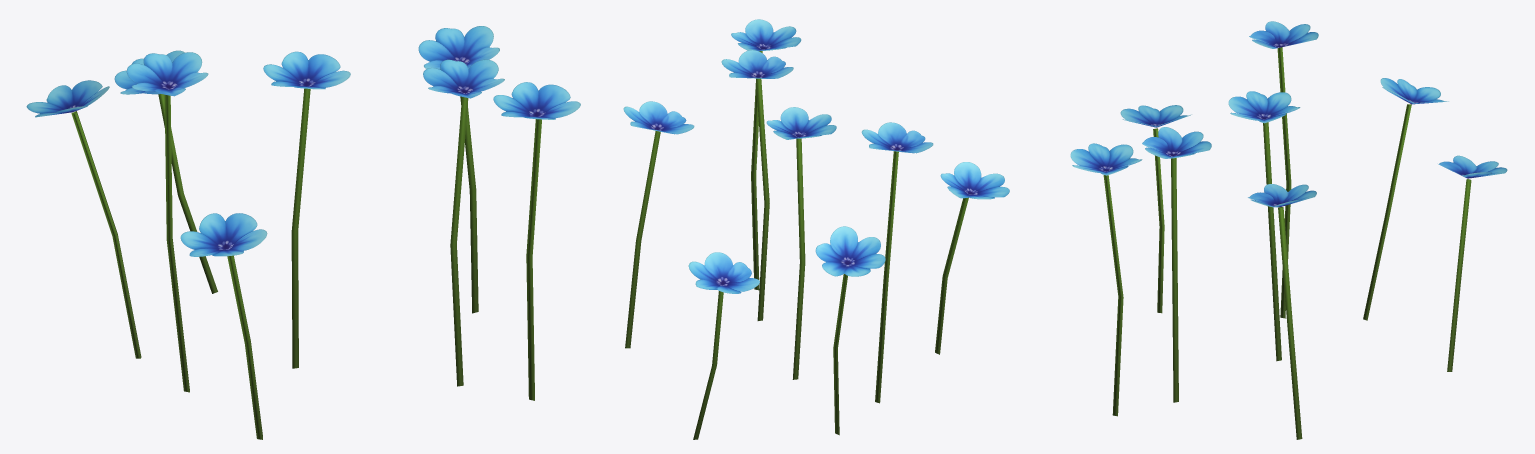
3 renders of one model, left to right at view 1: azimuth 30°, elevation 25°; view 2: azimuth 150°, elevation 25°; view 3: azimuth 270°, elevation 25°, orthographic. The views are drawn at different scales.
Visible parts, largest first — view 1: pl-flowers-blue; view 2: pl-flowers-blue; view 3: pl-flowers-blue.
Boxes of the visible parts, left/top/right/bottom form: pl-flowers-blue: left=26, top=26, right=580, bottom=439; pl-flowers-blue: left=623, top=19, right=1009, bottom=439; pl-flowers-blue: left=1070, top=21, right=1507, bottom=439.
Size of the model in its own units: 0.7418 by 0.567 by 0.8554.
1 material, 1 textured.
